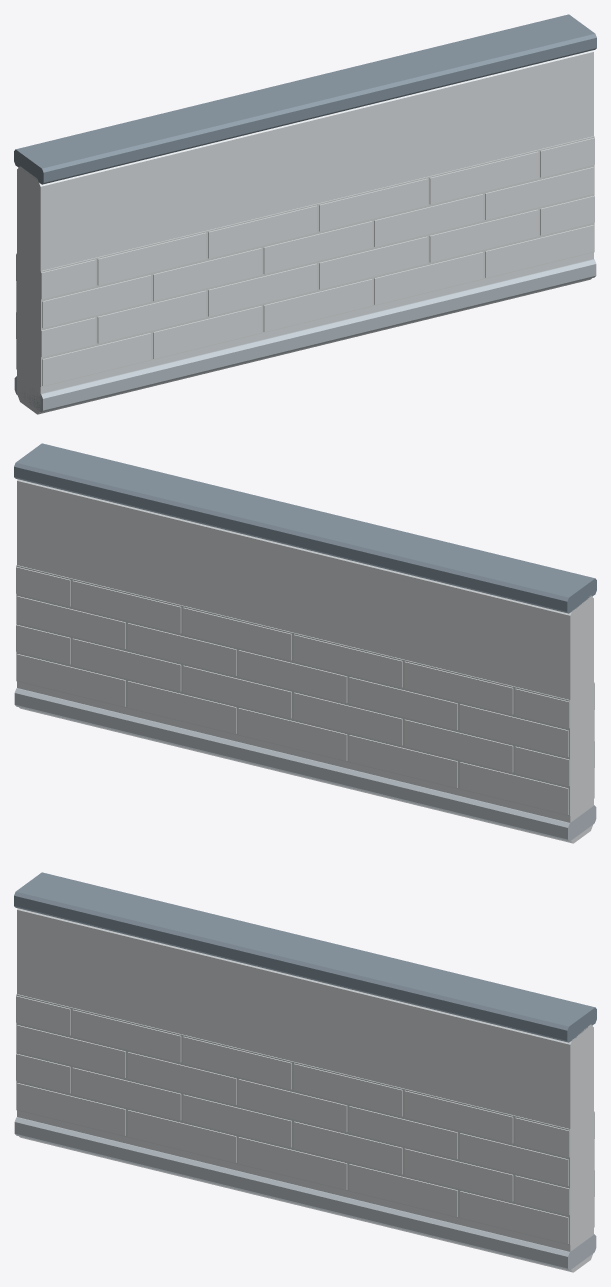
File: wall_school_art.glb
3 views of the same model, one above another, from view 1: azimuth 30°, elevation 25°; view 2: azimuth 150°, elevation 25°; view 3: azimuth 330°, elevation 25° (orthographic).
Parts seen in each view (by area): view 1: Part_001, Part_002, Part_003, Part_005, Part_043, Part_019, Part_025, Part_033, Part_011, Part_035, Part_047, Part_021 (+14 smaller); view 2: Part_001, Part_002, Part_003, Part_004, Part_042, Part_018, Part_024, Part_032, Part_010, Part_034, Part_046, Part_020 (+14 smaller); view 3: Part_001, Part_002, Part_003, Part_005, Part_045, Part_019, Part_025, Part_033, Part_011, Part_031, Part_041, Part_023 (+14 smaller).
Part boxes in pixels (box(x1,y1,x2,y2)): Part_001: box(17, 50, 593, 414); Part_002: box(14, 14, 596, 184); Part_003: box(14, 259, 596, 412); Part_005: box(40, 136, 594, 387); Part_043: box(208, 205, 317, 258); Part_019: box(97, 290, 206, 343); Part_025: box(429, 209, 538, 262); Part_033: box(263, 221, 372, 274); Part_011: box(263, 279, 372, 331); Part_035: box(374, 194, 483, 246); Part_047: box(429, 151, 538, 204); Part_021: box(208, 263, 317, 316); Part_001: box(17, 479, 593, 843); Part_002: box(14, 443, 596, 613); Part_003: box(14, 688, 596, 841); Part_004: box(16, 565, 570, 816); Part_042: box(293, 634, 402, 687); Part_018: box(404, 719, 513, 772); Part_024: box(72, 638, 181, 691); Part_032: box(238, 650, 347, 703); Part_010: box(238, 708, 347, 760); Part_034: box(127, 623, 236, 675); Part_046: box(72, 580, 181, 633); Part_020: box(293, 692, 402, 745); Part_001: box(17, 908, 593, 1272); Part_002: box(14, 872, 596, 1042); Part_003: box(14, 1117, 596, 1270); Part_005: box(16, 994, 570, 1245); Part_045: box(293, 1063, 402, 1116); Part_019: box(72, 1067, 181, 1120); Part_025: box(404, 1148, 513, 1201); Part_033: box(238, 1079, 347, 1132); Part_011: box(238, 1137, 347, 1189); Part_031: box(127, 1052, 236, 1104); Part_041: box(72, 1009, 181, 1062); Part_023: box(293, 1121, 402, 1174).
Bounding box in the file's own units: 2.7 × 1.16 × 0.25.
